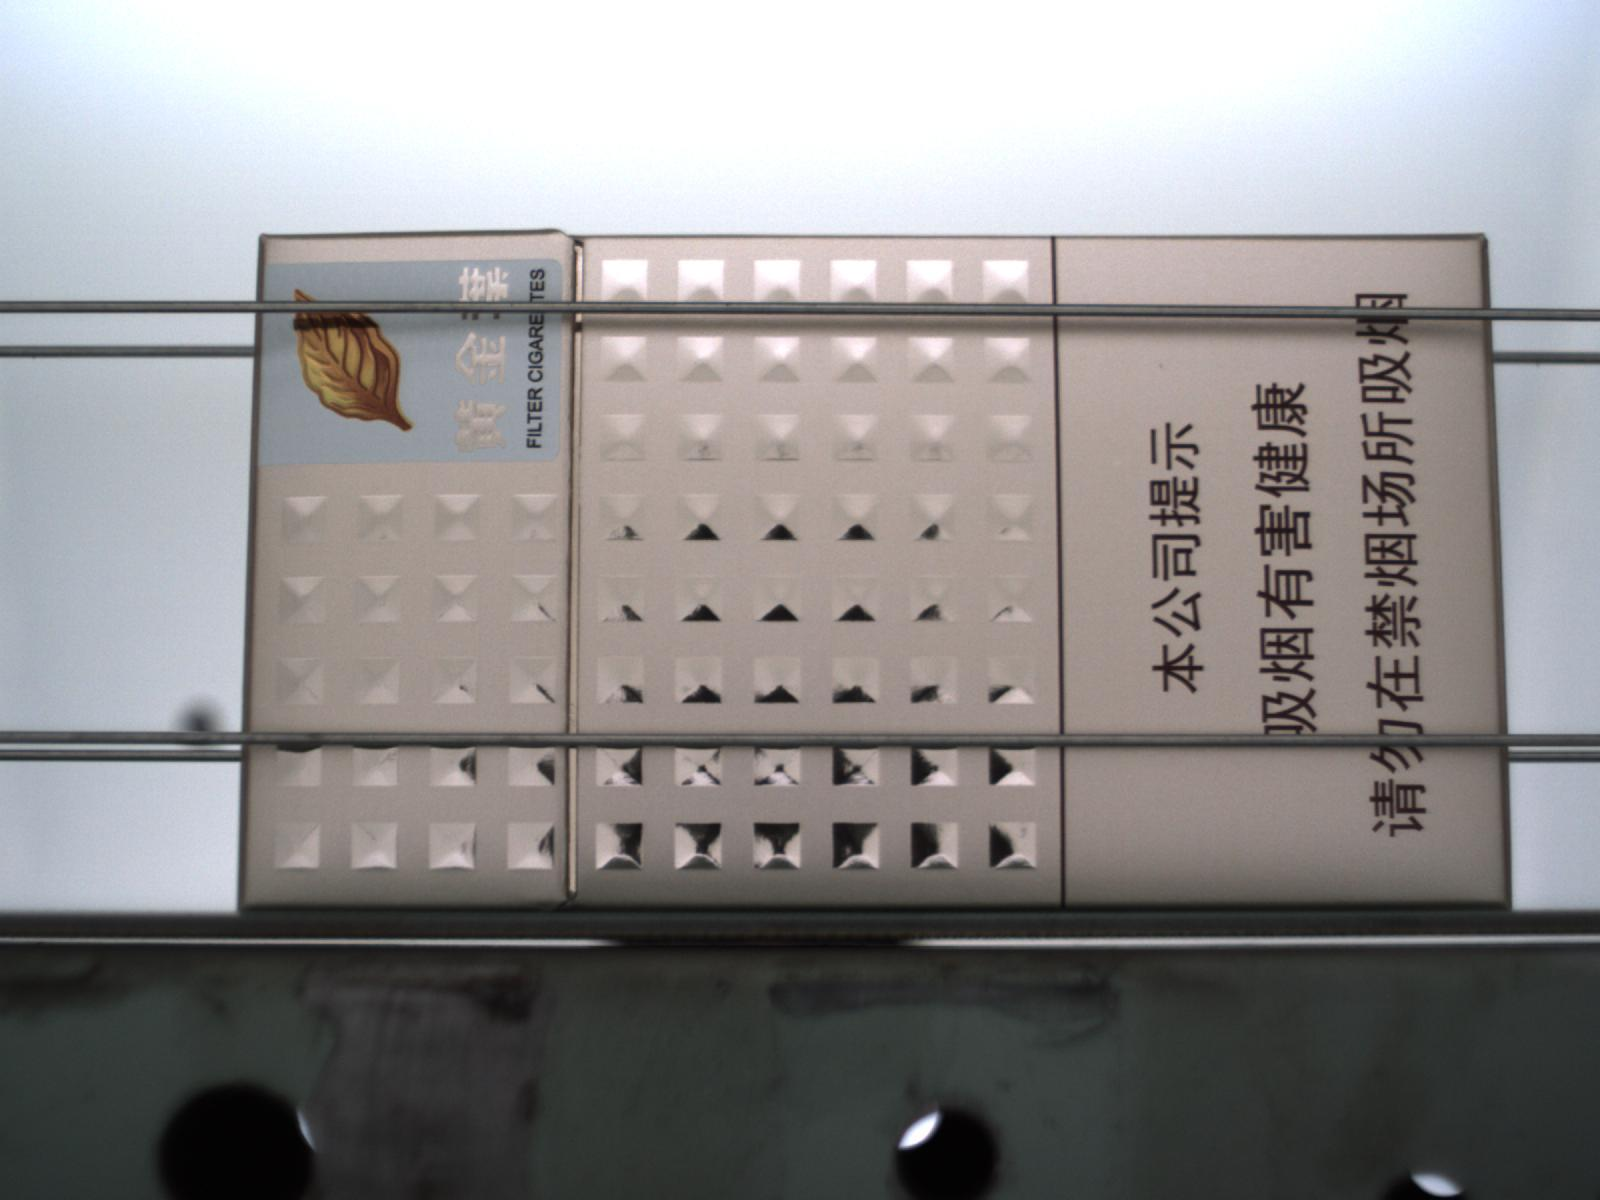dirtySpot: (1155, 359, 1168, 372)
